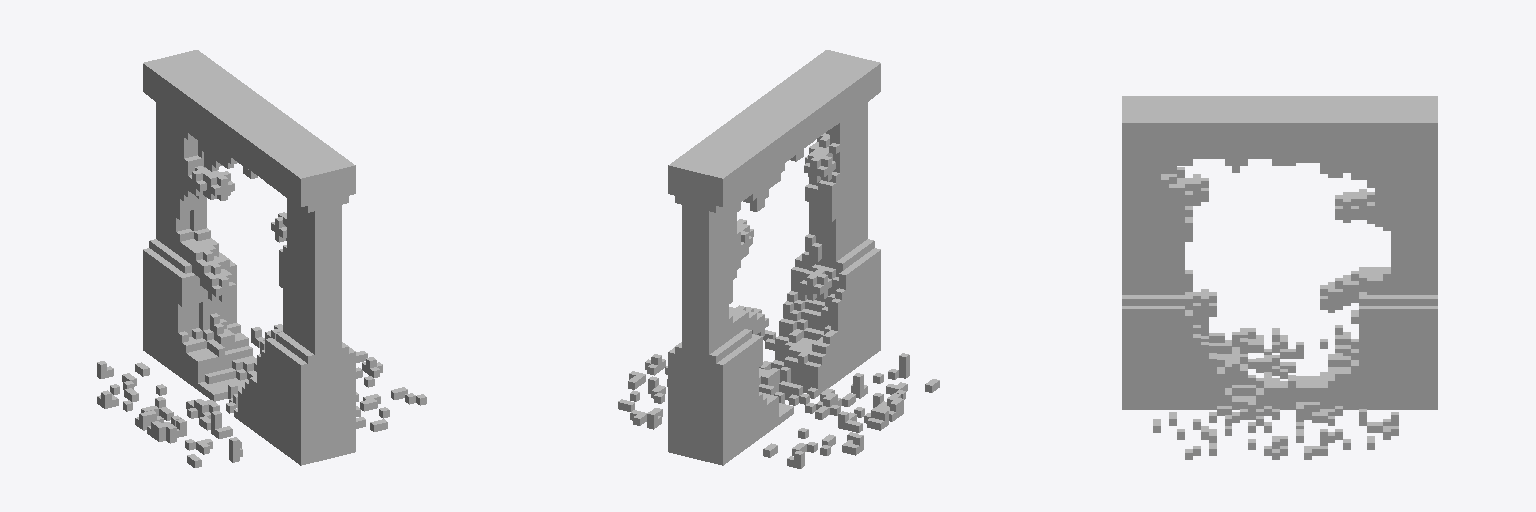
Rendered from wall broken.obj.
3 renders of one model, left to right at view 1: azimuth 30°, elevation 25°; view 2: azimuth 150°, elevation 25°; view 3: azimuth 270°, elevation 25°, orthographic.
Visible parts, largest first — view 1: wall broken; view 2: wall broken; view 3: wall broken.
Part boxes in pixels (bbox=[...]): wall broken: bbox=[97, 50, 426, 467]; wall broken: bbox=[618, 50, 939, 468]; wall broken: bbox=[1122, 96, 1437, 459].
Size of the model in its own units: 36 by 40 by 40.